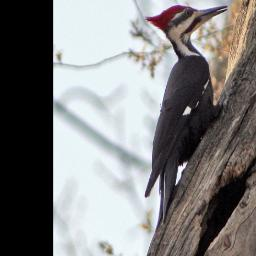Woodpecker: (142, 5, 231, 229)
